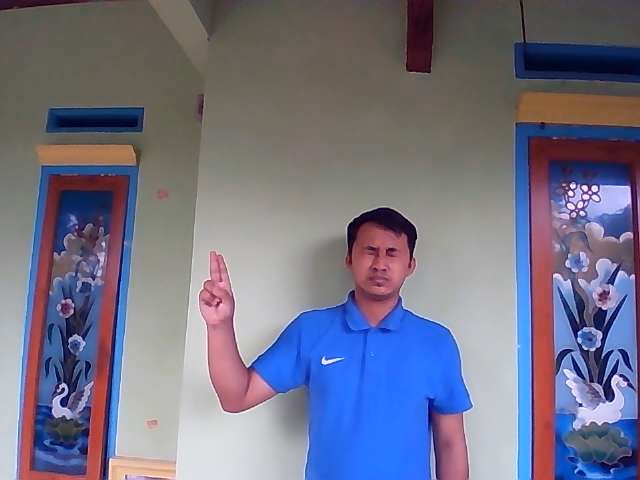U: (197, 250, 235, 323)
